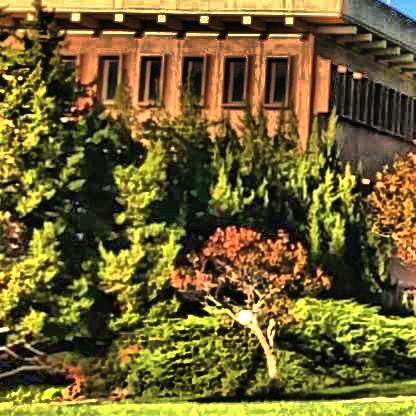golfball: (234, 305, 249, 322)
